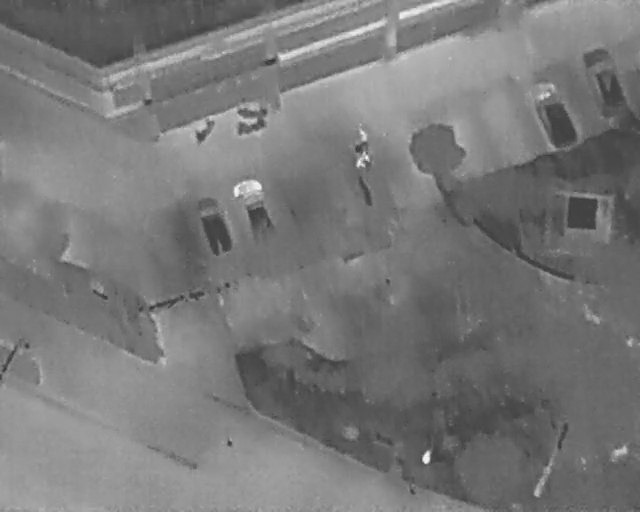Bicycle: (189, 112, 219, 148), (233, 111, 268, 137), (236, 104, 268, 119)
Car: (522, 74, 583, 155), (577, 41, 634, 124), (228, 173, 282, 248), (189, 191, 237, 261)
Person: (355, 124, 371, 145), (353, 150, 368, 172), (361, 149, 374, 166)
